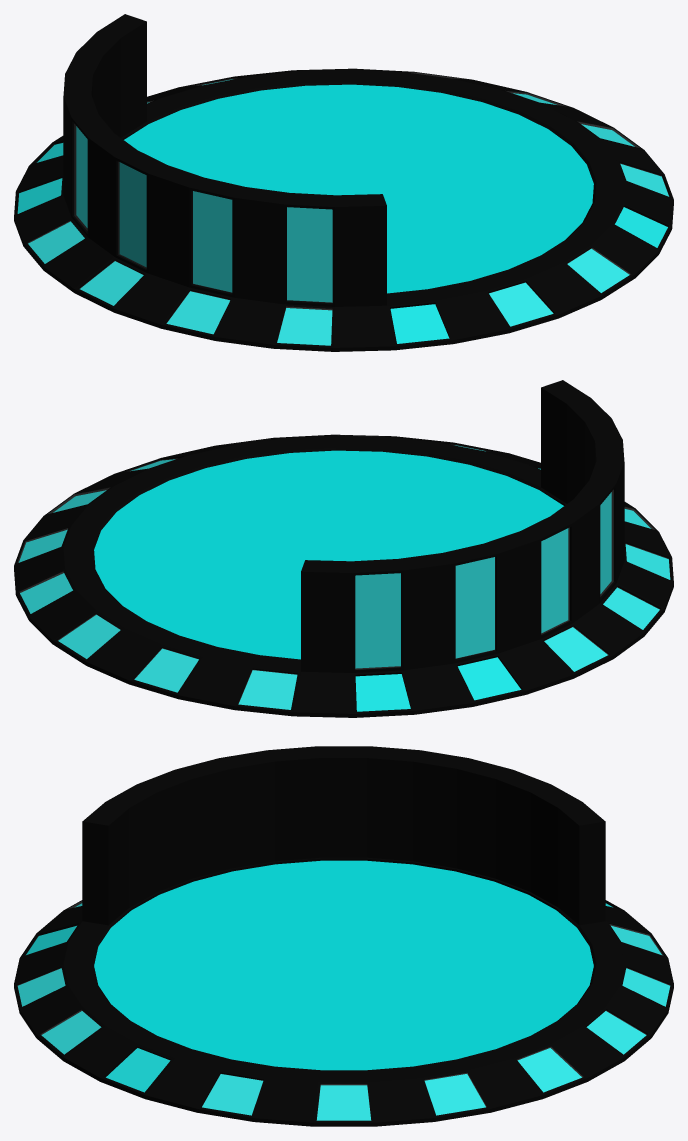
Rendered from wellTrim.fbx.
3 views of the same model, one above another, from view 1: azimuth 30°, elevation 25°; view 2: azimuth 150°, elevation 25°; view 3: azimuth 270°, elevation 25° (orthographic).
Parts seen in each view (by area): view 1: Cylinder, Cube.020, Cube.019, Cube.018, Cube.011, Cube.010, Cube.013, Cube.009, Cube.014, Cube.017, Cube.008, Cube.016; view 2: Cylinder, Cube.021, Cube.022, Cube.017, Cube.005, Cube.004, Cube.008, Cube.003, Cube.018, Cube.009, Cube.002, Cube.010 (+1 smaller); view 3: Cylinder, Cube, Cube.001, Cube.016, Cube.002, Cube.014, Cube.003, Cube.004, Cube.013, Cube.005.
Part boxes in pixels (<box>): Cylinder: <box>14,14,673,351</box>; Cube.020: <box>287,208,331,302</box>; Cube.019: <box>193,191,231,291</box>; Cube.018: <box>119,162,145,267</box>; Cube.011: <box>277,307,331,344</box>; Cube.010: <box>167,291,229,333</box>; Cube.013: <box>489,283,552,325</box>; Cube.009: <box>80,261,142,305</box>; Cube.014: <box>568,248,629,292</box>; Cube.017: <box>74,124,86,228</box>; Cube.008: <box>28,221,83,262</box>; Cube.016: <box>621,164,668,195</box>; Cylinder: <box>14,380,673,717</box>; Cube.021: <box>356,574,399,669</box>; Cube.022: <box>456,557,494,657</box>; Cube.017: <box>542,528,569,633</box>; Cube.005: <box>239,670,296,709</box>; Cube.004: <box>134,648,198,691</box>; Cube.008: <box>545,627,607,671</box>; Cube.003: <box>58,615,119,658</box>; Cube.018: <box>601,490,613,594</box>; Cube.009: <box>604,588,659,628</box>; Cube.002: <box>20,572,71,612</box>; Cube.010: <box>626,544,669,579</box>; Cylinder: <box>14,746,673,1126</box>; Cube: <box>317,1084,370,1119</box>; Cube.001: <box>425,1073,485,1114</box>; Cube.016: <box>202,1074,262,1114</box>; Cube.002: <box>518,1047,582,1091</box>; Cube.014: <box>41,1010,100,1053</box>; Cube.003: <box>587,1011,645,1053</box>; Cube.004: <box>623,968,669,1005</box>; Cube.013: <box>18,968,64,1005</box>; Cube.005: <box>610,924,662,954</box>.
Bounding box in the file's own units: 299 × 62 × 300.
